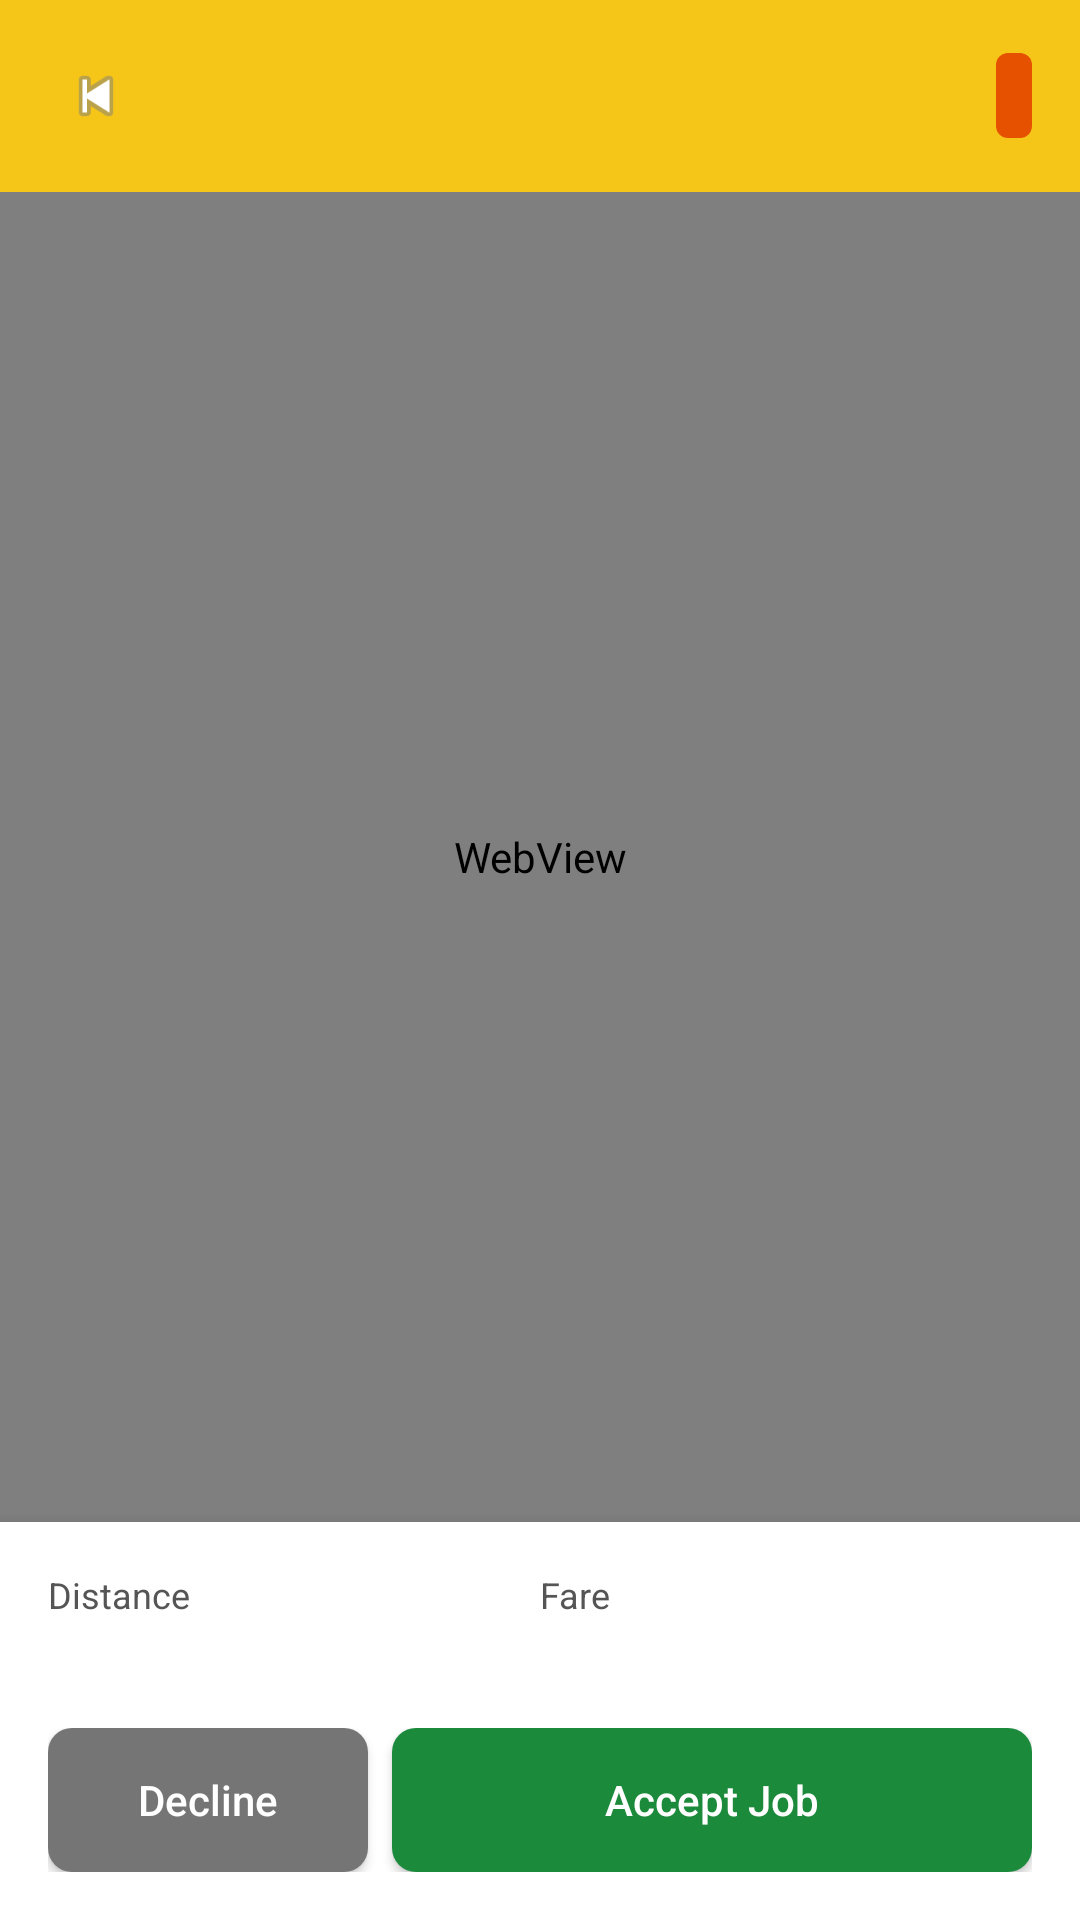

Point at icon controls on the screen. Image size 1080x1920, points as [x,y].
Back: [96,96]
